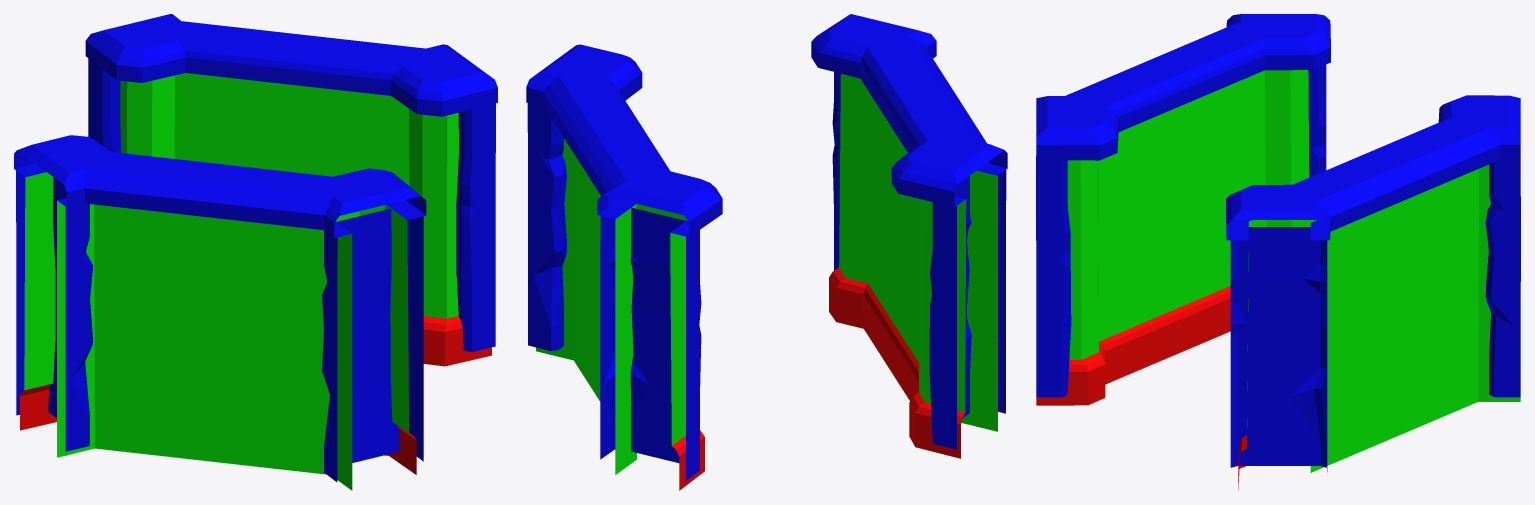
The model's file is dungeon_wall_mergedCorner.fbx.
3 views of the same model, side by side, from view 1: azimuth 30°, elevation 25°; view 2: azimuth 150°, elevation 25°; view 3: azimuth 270°, elevation 25° (orthographic). The views are drawn at different scales.
Visible parts, largest first — view 1: dungeon_wall_mergedCorner; view 2: dungeon_wall_mergedCorner; view 3: dungeon_wall_mergedCorner.
Part boxes in pixels (x1=…): dungeon_wall_mergedCorner: x1=14, y1=14, x2=497, y2=490; dungeon_wall_mergedCorner: x1=526, y1=14, x2=1007, y2=490; dungeon_wall_mergedCorner: x1=1036, y1=14, x2=1520, y2=489.
Bounding box in the file's own units: 200 × 200 × 126.
